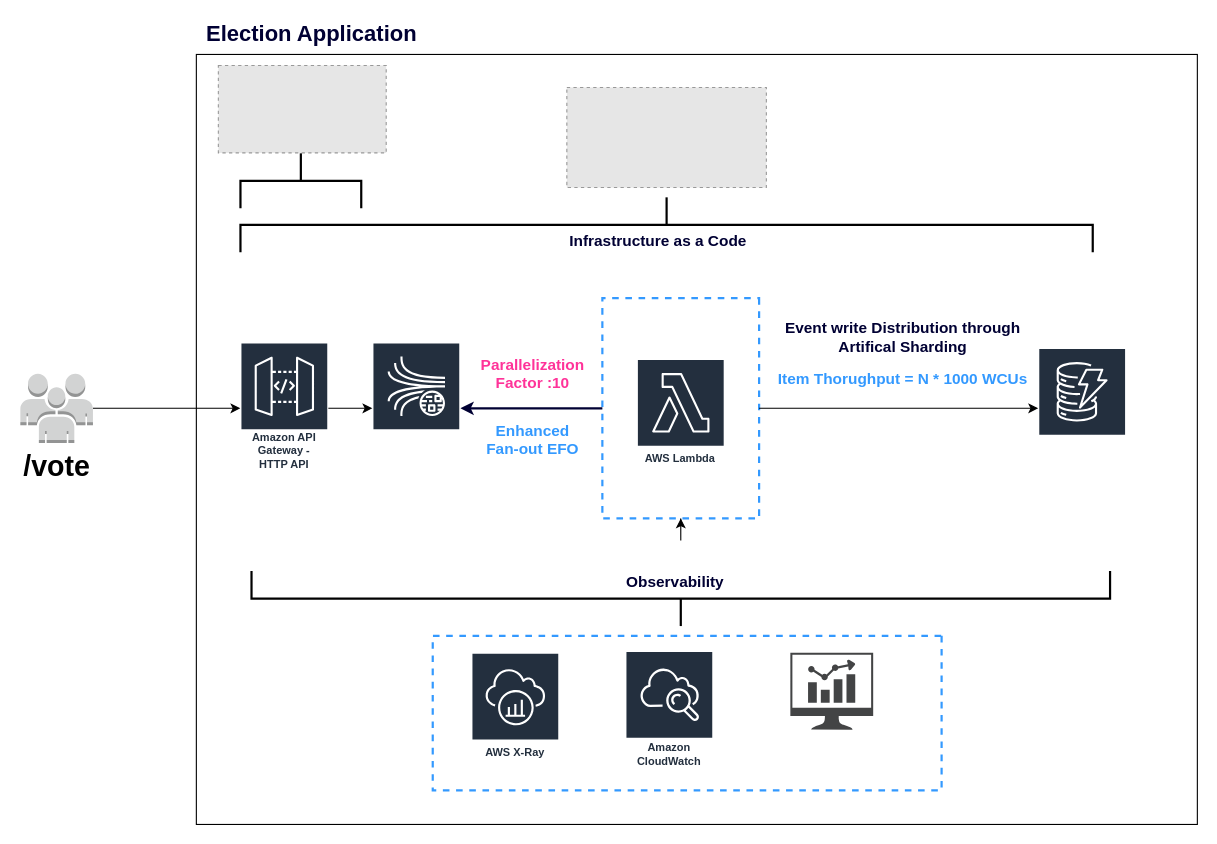
Image size: 1217x844. Some labels were removed from this diagram. Grey dashed boxes stand in for pictures. Here are the shapes that lost their labels. From the top down, the box of each, then its label:
(371, 341, 460, 474): Amazon Kinesis Data Streams
(1037, 347, 1126, 469): Amazon DynamoDB
(790, 652, 873, 729): CloudWatch Ops Dasboard
